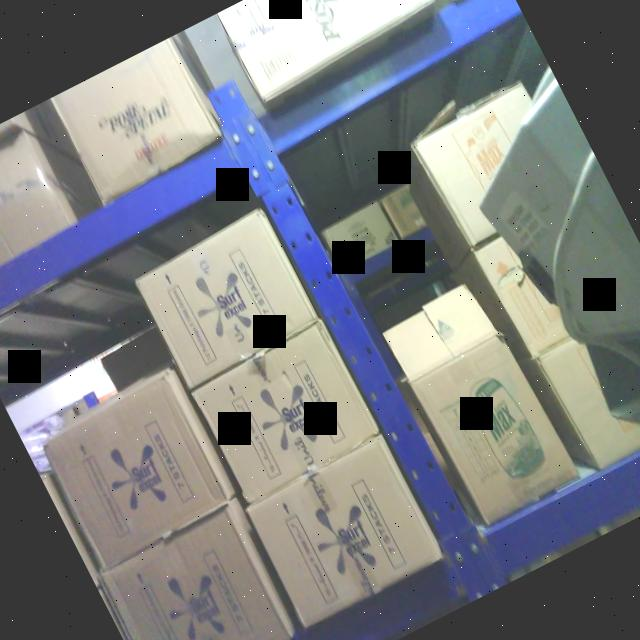box: (381, 282, 583, 532), (238, 430, 451, 634), (35, 372, 236, 573), (188, 318, 384, 506), (129, 209, 324, 394), (404, 78, 584, 255), (48, 36, 228, 208), (90, 503, 300, 640), (214, 0, 444, 104), (533, 330, 640, 472), (0, 118, 82, 298), (471, 228, 572, 359)
